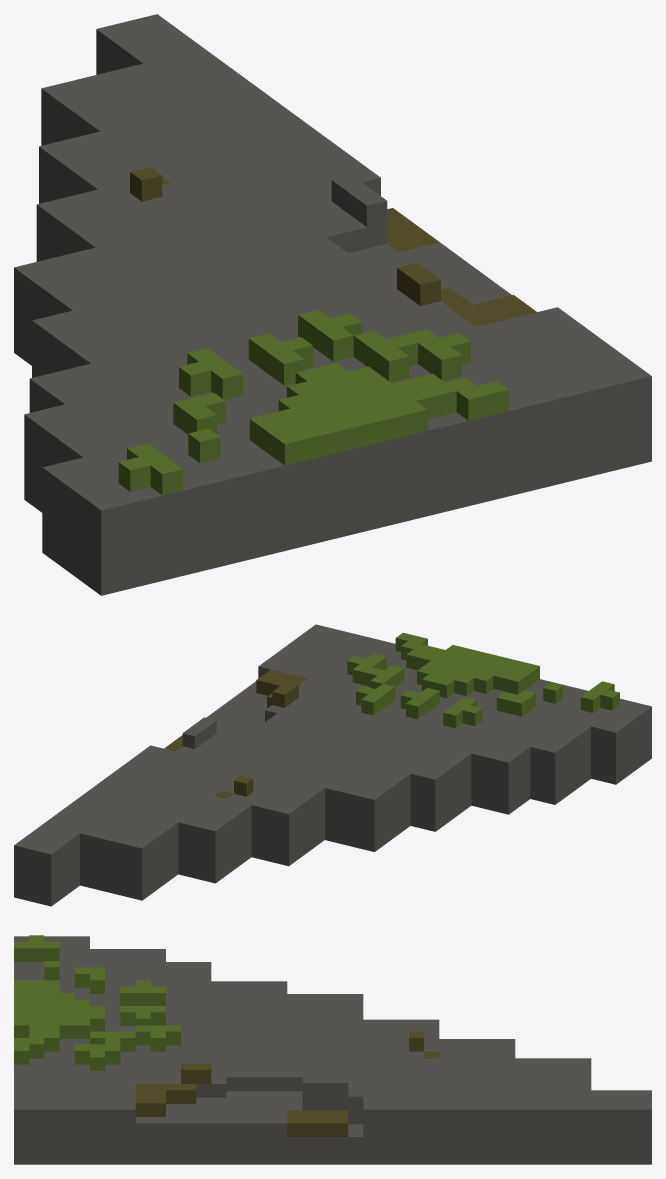
The model's file is Water_floating_rocks_003.glb.
3 views of the same model, one above another, from view 1: azimuth 30°, elevation 25°; view 2: azimuth 150°, elevation 25°; view 3: azimuth 270°, elevation 25° (orthographic). The views are drawn at different scales.
Parts seen in each view (by area): view 1: Water_floating_rocks.003; view 2: Water_floating_rocks.003; view 3: Water_floating_rocks.003.
Boxes of the visible parts, <box> form: Water_floating_rocks.003: <box>14,14,651,595</box>; Water_floating_rocks.003: <box>14,624,651,906</box>; Water_floating_rocks.003: <box>14,935,651,1164</box>.
Bounding box in the file's own units: 2.54 × 0.47 × 3.95.
1 material, 1 textured.
